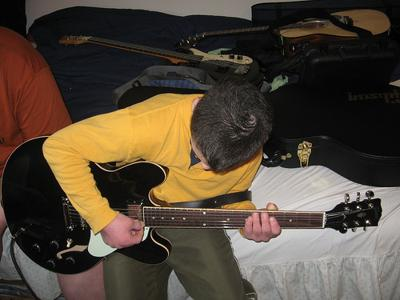person: (42, 76, 283, 300)
